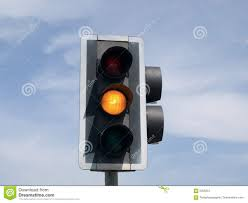amber: (78, 32, 149, 174), (84, 38, 143, 168), (96, 46, 136, 161), (99, 50, 131, 156)
